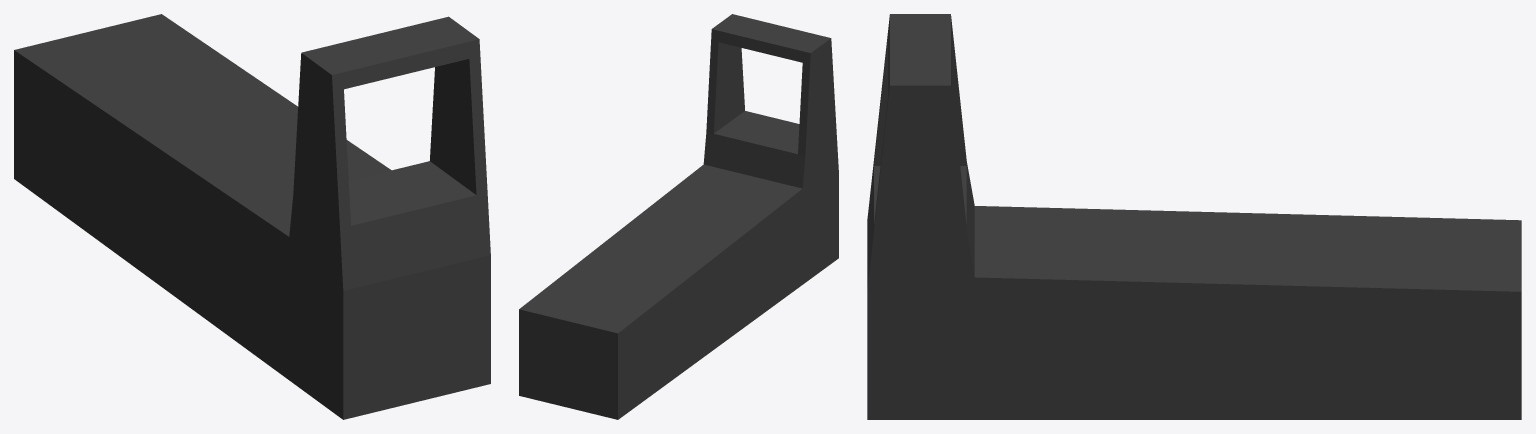
File: reddot.obj
The picture shows the model from 3 angles, left to right: view 1: azimuth 30°, elevation 25°; view 2: azimuth 150°, elevation 25°; view 3: azimuth 270°, elevation 25°; orthographic projection. The views are drawn at different scales.
Parts seen in each view (by area): view 1: Cube_Cube.001; view 2: Cube_Cube.001; view 3: Cube_Cube.001.
Part boxes in pixels (left/top/right/bottom): Cube_Cube.001: left=14, top=14, right=490, bottom=419; Cube_Cube.001: left=519, top=14, right=838, bottom=419; Cube_Cube.001: left=867, top=14, right=1521, bottom=419.
Bounding box in the file's own units: 2 × 4.36 × 7.73.
